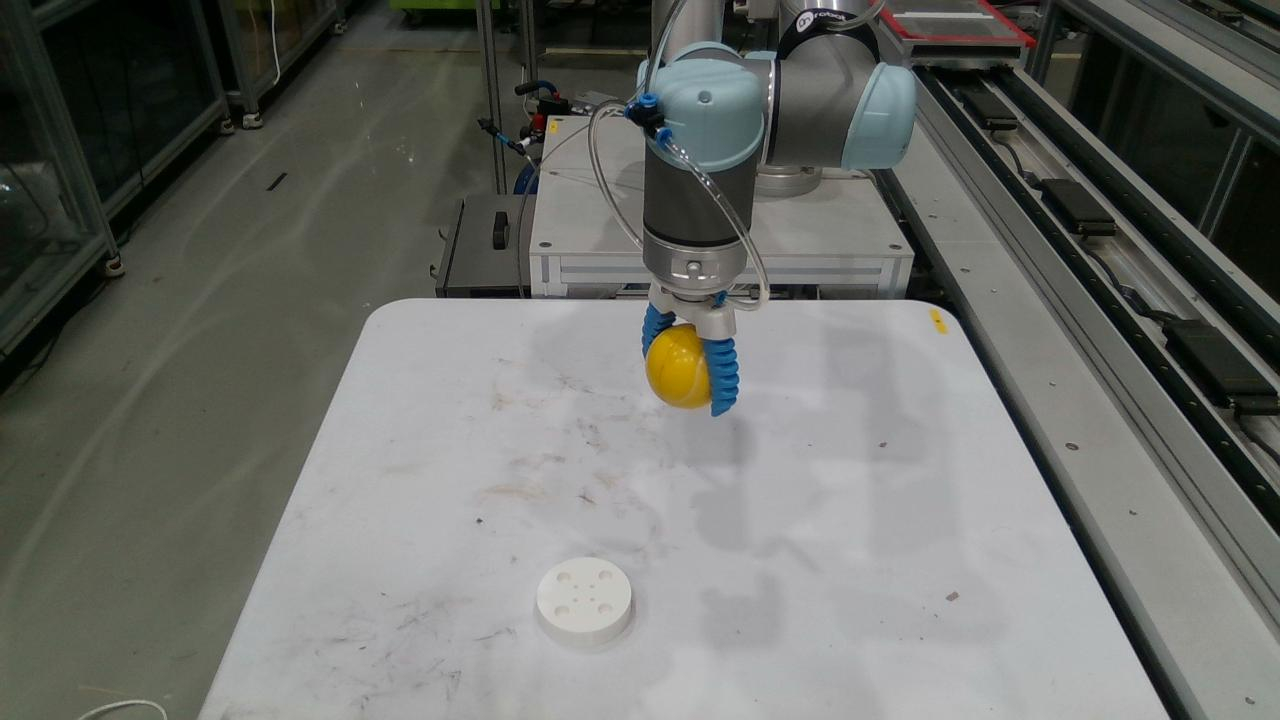UR5: (637, 0, 915, 340)
gripper_left: (640, 303, 676, 359)
gripper_right: (703, 338, 739, 416)
target: (535, 557, 633, 647), (645, 325, 711, 409)
